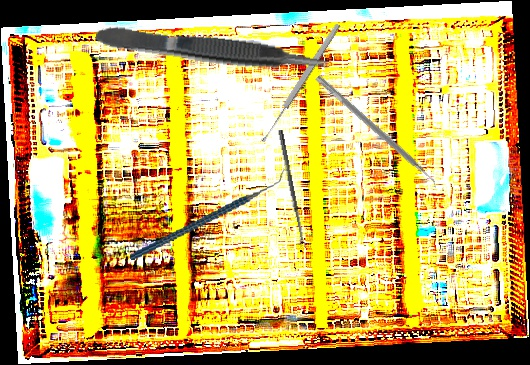Chopper: (120, 167, 295, 261)
Spatula Surgical: (310, 74, 442, 192)
Surgical Spoon: (259, 22, 342, 144), (277, 129, 306, 248)
Tissue Forceps: (94, 18, 333, 80)
